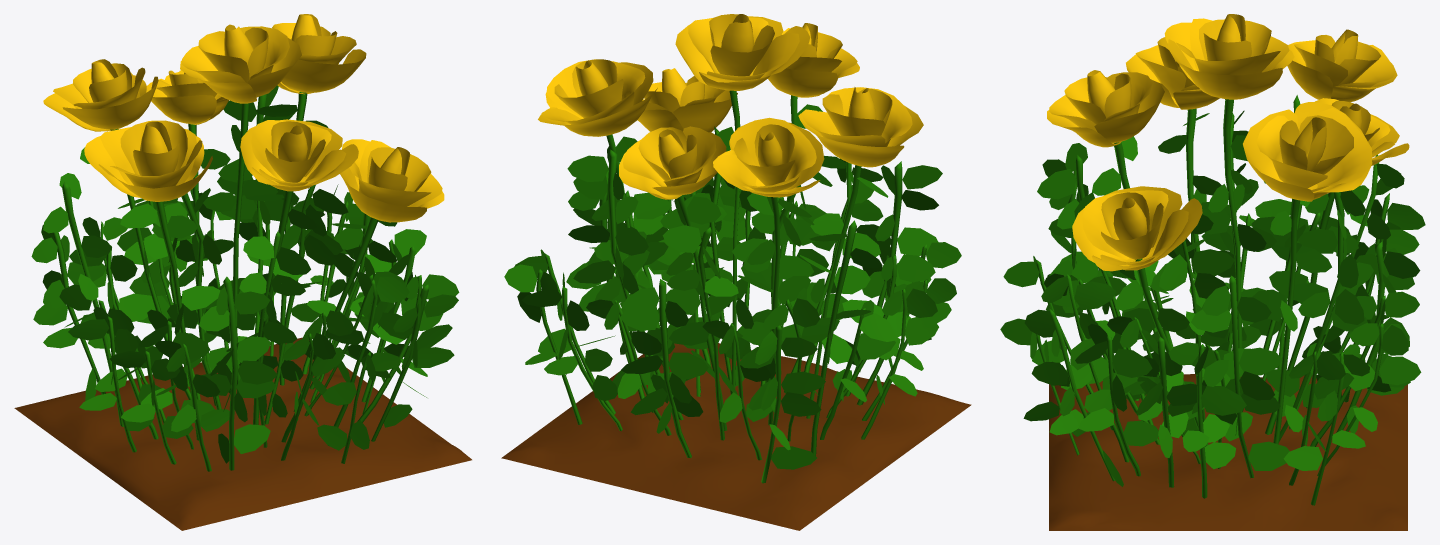
Rendered from yellow-rose.glb.
3 renders of one model, left to right at view 1: azimuth 30°, elevation 25°; view 2: azimuth 150°, elevation 25°; view 3: azimuth 270°, elevation 25°, orthographic. The views are drawn at different scales.
Visible parts, largest first — view 1: 4_nft_bloom; view 2: 4_nft_bloom; view 3: 4_nft_bloom.
Boxes of the visible parts, x1=… form: 4_nft_bloom: x1=14, y1=14, x2=471, y2=530; 4_nft_bloom: x1=501, y1=14, x2=971, y2=530; 4_nft_bloom: x1=1000, y1=14, x2=1425, y2=530.
Bounding box in the file's own units: 0.8619 × 0.9393 × 0.8292.
